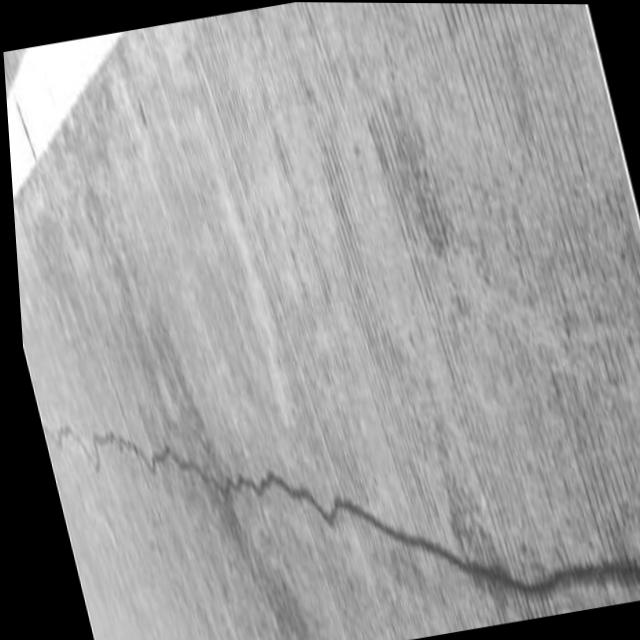Crack: (34, 315, 640, 640)
